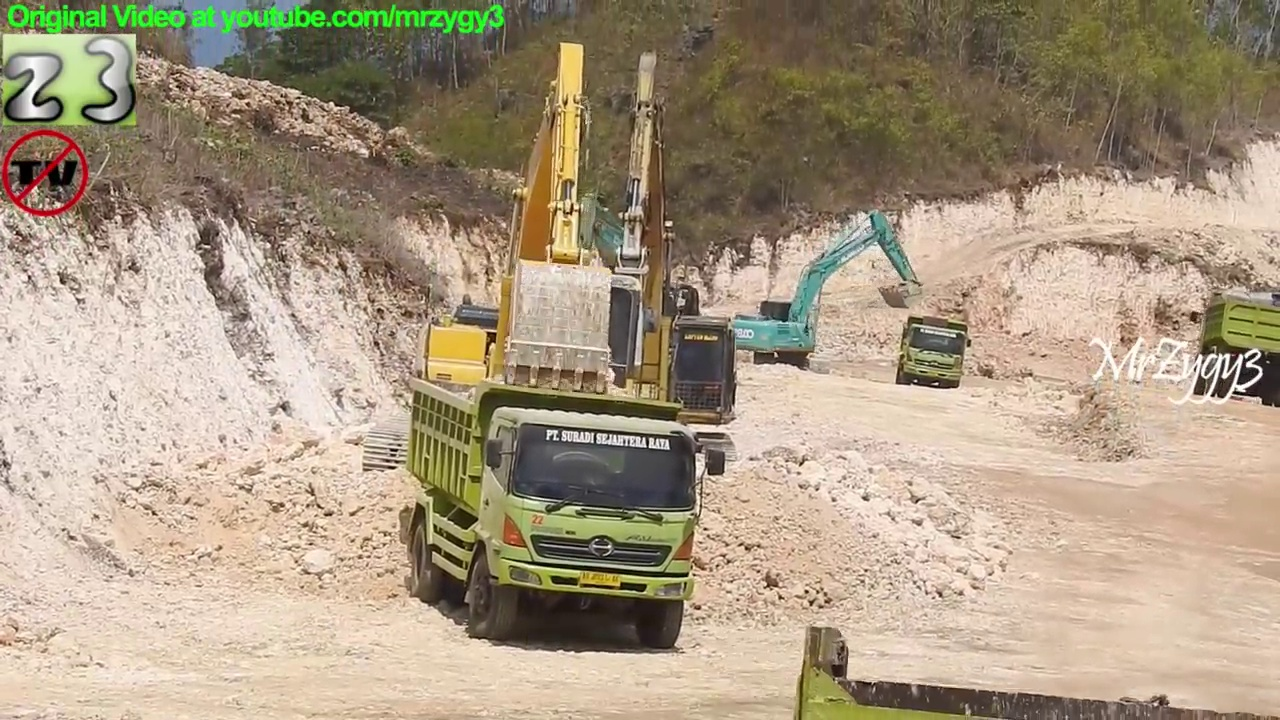excavator: (357, 38, 667, 490), (488, 38, 743, 485), (729, 206, 926, 371)
truck: (399, 369, 729, 659), (792, 619, 1280, 720), (1191, 283, 1280, 411), (895, 312, 975, 393)
